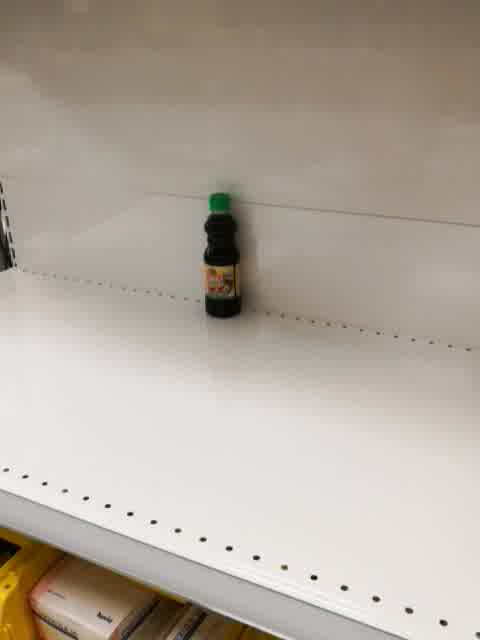cookingoil: (201, 190, 244, 320)
